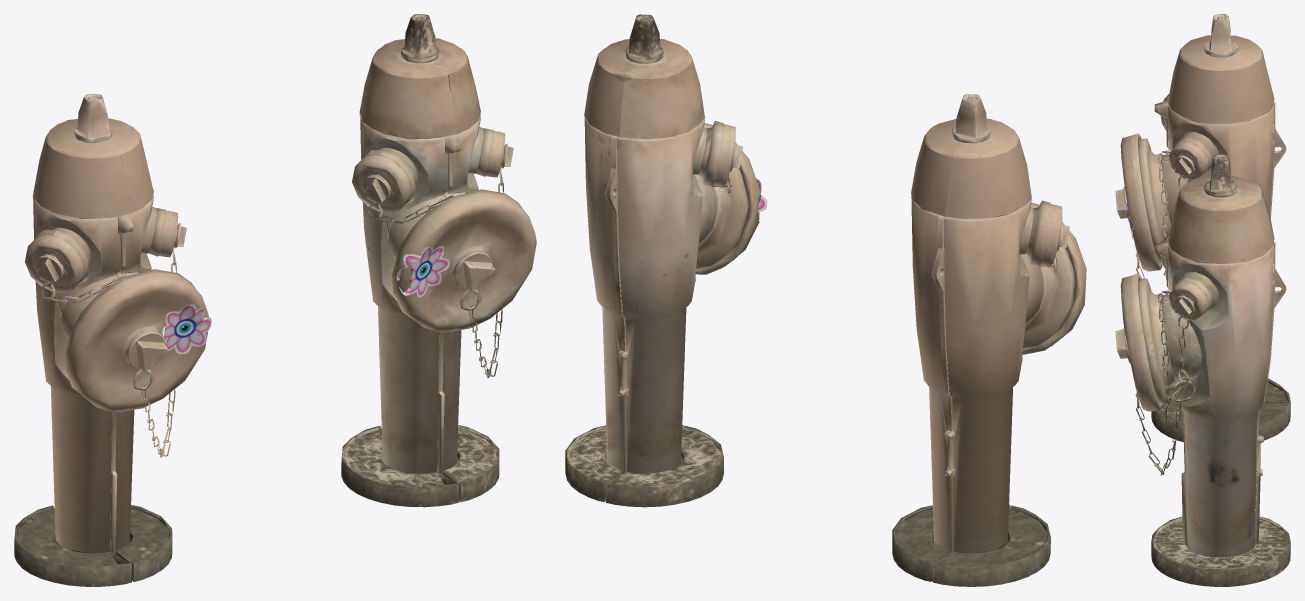
File: nyb_itch_hydrant.glb
3 renders of one model, left to right at view 1: azimuth 30°, elevation 25°; view 2: azimuth 150°, elevation 25°; view 3: azimuth 270°, elevation 25°, orthographic. The views are drawn at different scales.
Parts seen in each view (by area): view 1: fire_hydrant, stk_eyeflower_die.png, stk_eyeflower_die.png.001; view 2: fire_hydrant; view 3: fire_hydrant.
Part boxes in pixels (x1,y1,x2,y2): fire_hydrant: (14,14,536,586); stk_eyeflower_die.png: (162,304,211,354); stk_eyeflower_die.png.001: (396,246,449,297); fire_hydrant: (565,14,1086,586); fire_hydrant: (1115,14,1290,586).
Size of the model in its own units: 0.8738 by 0.8004 by 0.3173.
Materials: 4 (4 with a texture image).
